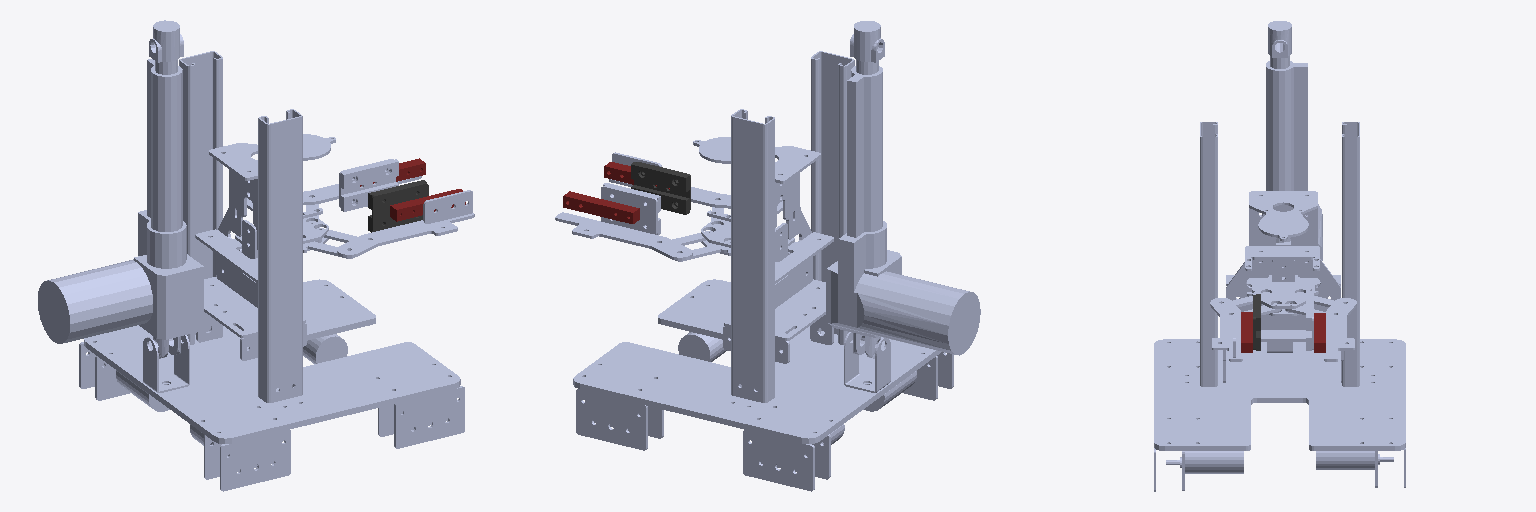
URDF robot description (swole_7):
<?xml version="1.0" encoding="utf-8"?>
<!-- This URDF was automatically created by SolidWorks to URDF Exporter! Originally created by [author] ([email redacted]) 
     Commit Version: 1.6.0-4-g7f85cfe  Build Version: 1.6.7995.38578
     For more information, please see http://wiki.ros.org/sw_urdf_exporter -->
<robot
  name="swole_7">
  <link
    name="base_link">
    <inertial>
      <origin
        xyz="-0.0148176230048584 0.00401001080732938 0.0686503041268495"
        rpy="0 0 0" />
     <mass
        value="0.43823834058655" />
      <inertia
        ixx="0.00314976311839575"
        ixy="-9.54850998275818E-19"
        ixz="-8.87078769442381E-22"
        iyy="0.00277373372724309"
        iyz="-5.06082384233403E-22"
        izz="0.00592055170139079" />
    </inertial>
    <visual>
      <origin
        xyz="0 0 0"
        rpy="0 0 0" />
      <geometry>
        <mesh
          filename="package://swole_7/meshes/base_link.STL" />
      </geometry>
      <material
        name="">
        <color
          rgba="0.792156862745098 0.819607843137255 0.933333333333333 1" />
      </material>
    </visual>
    <collision>
      <origin
        xyz="0 0 0"
        rpy="0 0 0" />
      <geometry>
        <mesh
          filename="package://swole_7/meshes/base_link.STL" />
      </geometry>
    </collision>
  </link>
  <link
    name="front_right_wheel">
    <inertial>
      <origin
        xyz="1.4481E-11 3.6689E-05 5.3453E-11"
        rpy="0 0 0" />
      <mass
        value="0.4" />
      <inertia
        ixx="5.541E-05"
        ixy="-4.7628E-15"
        ixz="-4.7607E-14"
        iyy="6.7546E-05"
        iyz="-3.3652E-14"
        izz="5.541E-05" />
    </inertial>
    <visual>
      <origin
        xyz="0 0 0"
        rpy="0 0 0" />
      <geometry>
        <mesh
          filename="package://swole_7/meshes/omni_wheel_1.dae" scale="0.4 0.4 0.4"/>
      </geometry>
      <material
        name="">
        <color
          rgba="0.79216 0.81961 0.93333 1" />
      </material>
    </visual>
    <collision>
      <origin
        xyz="0 0 0"
        rpy="1.57 0 0" />
        <geometry>
					<cylinder length="0.05" radius="0.05" />
        </geometry>
    </collision>
  </link>
  <joint
    name="front_right_wheel_joint"
    type="continuous">
    <origin
      xyz="0.10879 -0.20416 -0.035575"
      rpy="0 0 0" />
    <parent
      link="base_link" />
    <child
      link="front_right_wheel" />
    <axis
      xyz="0 0 0" />
  </joint>
  <link
    name="front_left_wheel">
    <inertial>
      <origin
        xyz="1.7206E-11 -6.0979E-12 4.367E-11"
        rpy="0 0 0" />
      <mass
        value="0.4" />
      <inertia
        ixx="5.541E-05"
        ixy="-1.8289E-14"
        ixz="1.6534E-13"
        iyy="6.7546E-05"
        iyz="4.9936E-14"
        izz="5.541E-05" />
    </inertial>
    <visual>
      <origin
        xyz="0 0 0"
        rpy="0 0 0" />
      <geometry>
        <mesh
          filename="package://swole_7/meshes/omni_wheel_2.dae" scale="0.4 0.4 0.4"/>
      </geometry>
      <material
        name="">
        <color
          rgba="0.79216 0.81961 0.93333 1" />
      </material>
    </visual>
    <collision>
      <origin
        xyz="0 0 0"
        rpy="1.57 0 0" />
      <geometry>
        <geometry>
					<cylinder length="0.05" radius="0.05" />
        </geometry>
      </geometry>
    </collision>
  </link>
  <joint
    name="front_left_wheel_joint"
    type="continuous">
    <origin
      xyz="0.099888 0.20438 -0.035575"
      rpy="0 0 0" />
    <parent
      link="base_link" />
    <child
      link="front_left_wheel" />
    <axis
      xyz="0 1 0" />
    <limit effort="100" velocity="100"/>
    <joint_properties damping="0.0" friction="0.0"/>
  </joint>
  <link
    name="rear_left_wheel">
    <inertial>
      <origin
        xyz="-1.8869E-11 -7.9625E-12 -1.3747E-12"
        rpy="0 0 0" />
      <mass
        value="0.4" />
      <inertia
        ixx="5.541E-05"
        ixy="1.182E-14"
        ixz="-1.164E-13"
        iyy="6.7546E-05"
        iyz="2.6018E-14"
        izz="5.541E-05" />
    </inertial>
    <visual>
      <origin
        xyz="0 0 0"
        rpy="0 0 0" />
      <geometry>
        <mesh
          filename="package://swole_7/meshes/omni_wheel_2.dae" scale="0.4 0.4 0.4"/>
      </geometry>
      <material
        name="">
        <color
          rgba="0.79216 0.81961 0.93333 1" />
      </material>
    </visual>
    <collision>
      <origin
        xyz="0 0 0"
        rpy="1.57 0 0" />
        <geometry>
					<cylinder length="0.05" radius="0.05" />
        </geometry>
    </collision>
  </link>
  <joint
    name="rear_left_wheel_joint"
    type="continuous">
    <origin
      xyz="-0.091212 0.20438 -0.035575"
      rpy="0 0 0" />
    <parent
      link="base_link" />
    <child
      link="rear_left_wheel" />
    <axis
      xyz="0 1 0" />
  </joint>
  <link
    name="rear_right_wheel">
    <inertial>
      <origin
        xyz="-1.4481E-11 3.6689E-05 -5.3453E-11"
        rpy="0 0 0" />
      <mass
        value="0.4" />
      <inertia
        ixx="5.541E-05"
        ixy="4.7618E-15"
        ixz="-4.7607E-14"
        iyy="6.7546E-05"
        iyz="3.3654E-14"
        izz="5.541E-05" />
    </inertial>
    <visual>
      <origin
        xyz="0 0 0"
        rpy="0 0 0" />
      <geometry>
        <mesh
          filename="package://swole_7/meshes/omni_wheel_1.dae" scale="0.4 0.4 0.4"/>
      </geometry>
      <material
        name="">
        <color
          rgba="0.79216 0.81961 0.93333 1" />
      </material>
    </visual>
    <collision>
      <origin
        xyz="0 0 0"
        rpy="1.57 0 0" />
        <geometry>
					<cylinder length="0.05" radius="0.05" />
        </geometry>
    </collision>
  </link>
  <joint
    name="rear_right_wheel_joint"
    type="continuous">
    <origin
      xyz="-0.090543 -0.20416 -0.035575"
      rpy="0 0 0" />
    <parent
      link="base_link" />
    <child
      link="rear_right_wheel" />
    <axis
      xyz="0 1 0" />
  </joint>
  <link
    name="gripper_lifter">
    <inertial>
      <origin
        xyz="-0.0249741085115004 0.00401001080732938 0.0686503041268495"
        rpy="0 0 0" />
      <mass
        value="0.0172" />
      <inertia
        ixx="0.00021296"
        ixy="-1.3863E-08"
        ixz="-1.1287E-14"
        iyy="0.00017198"
        iyz="-1.0274E-15"
        izz="0.00020319" />
    </inertial>
    <visual>
      <origin
        xyz="0 0 0"
        rpy="0 0 0" />
      <geometry>
        <mesh
          filename="package://swole_7/meshes/gripper_lifter.STL" />
      </geometry>
      <material
        name="">
        <color
          rgba="0.79216 0.81961 0.93333 1" />
      </material>
    </visual>
    <collision>
      <origin
        xyz="0 0 0"
        rpy="0 0 0" />
      <geometry>
        <mesh
          filename="package://swole_7/meshes/gripper_lifter.STL" />
      </geometry>
    </collision>
  </link>
  <joint
    name="gripper_lifter_joint"
    type="prismatic">
    <origin
      xyz="-0.0249741085115004 0.00401001080732938 0.0686503041268495"
      rpy="0 0 0" />
    <parent
      link="base_link" />
    <child
      link="gripper_lifter" />
    <axis
      xyz="0 0 1" />
    <limit
      lower="0"
      upper="0"
      effort="0"
      velocity="0" />
  </joint>
  <link
    name="lidar_plate">
    <inertial>
      <origin
        xyz="0 -2.7756E-17 -5.5511E-17"
        rpy="0 0 0" />
      <mass
        value="0.00000019609" />
      <inertia
        ixx="6.9293E-06"
        ixy="-1.434E-21"
        ixz="-7.3447E-22"
        iyy="2.3202E-05"
        iyz="3.4914E-23"
        izz="3.0098E-05" />
    </inertial>
    <visual>
      <origin
        xyz="0 0 0"
        rpy="0 0 0" />
      <geometry>
        <mesh
          filename="package://swole_7/meshes/lidar_plate.STL" />
      </geometry>
      <material
        name="">
        <color
          rgba="0.79216 0.81961 0.93333 1" />
      </material>
    </visual>
    <collision>
      <origin
        xyz="0 0 0"
        rpy="0 0 0" />
      <geometry>
        <mesh
          filename="package://swole_7/meshes/lidar_plate.STL" />
      </geometry>
    </collision>
  </link>
  <joint
    name="lidar_plate_joint"
    type="fixed">
    <origin
      xyz="0.035612 0 0.15559"
      rpy="0 0 0" />
    <parent
      link="gripper_lifter" />
    <child
      link="lidar_plate" />
    <axis
      xyz="0 0 1" />
  </joint>
  <link
    name="finger_right">
    <inertial>
      <origin
        xyz="-5.5511E-17 1.3878E-17 5.5511E-17"
        rpy="0 0 0" />
      <mass
        value="0.0041334" />
      <inertia
        ixx="2.2294E-07"
        ixy="-1.2445E-24"
        ixz="1.0627E-22"
        iyy="1.2703E-06"
        iyz="-2.8075E-24"
        izz="1.0543E-06" />
    </inertial>
    <visual>
      <origin
        xyz="0 0 0"
        rpy="0 0 0" />
      <geometry>
        <mesh
          filename="package://swole_7/meshes/finger_right.STL" />
      </geometry>
      <material
        name="">
        <color
          rgba="0.79216 0.81961 0.93333 1" />
      </material>
    </visual>
    <collision>
      <origin
        xyz="0 0 0"
        rpy="0 0 0" />
      <geometry>
        <mesh
          filename="package://swole_7/meshes/finger_right.STL" />
      </geometry>
    </collision>
  </link>
  <joint
    name="finger_right_joint"
    type="prismatic">
    <origin
      xyz="0.2055 -0.054841 0.080876"
      rpy="0 0 0" />
    <parent
      link="gripper_lifter" />
    <child
      link="finger_right" />
    <axis
      xyz="0 0 1" />
    <limit
      lower="0"
      upper="0"
      effort="0"
      velocity="0" />
  </joint>
  <link
    name="load_cell_right">
    <inertial>
      <origin
        xyz="0 -2.7756E-17 -2.7756E-17"
        rpy="0 0 0" />
      <mass
        value="0.012334" />
      <inertia
        ixx="3.3867E-07"
        ixy="-4.5654E-20"
        ixz="-1.326E-21"
        iyy="6.5905E-06"
        iyz="3.1041E-23"
        izz="6.5834E-06" />
    </inertial>
    <visual>
      <origin
        xyz="0 0 0"
        rpy="0 0 0" />
      <geometry>
        <mesh
          filename="package://swole_7/meshes/load_cell_right.STL" />
      </geometry>
      <material
        name="">
        <color
          rgba="0.54902 0.18039 0.18039 1" />
      </material>
    </visual>
    <collision>
      <origin
        xyz="0 0 0"
        rpy="0 0 0" />
      <geometry>
        <mesh
          filename="package://swole_7/meshes/load_cell_right.STL" />
      </geometry>
    </collision>
  </link>
  <joint
    name="load_cell_right_joint"
    type="fixed">
    <origin
      xyz="-0.01482 0.014288 0"
      rpy="0 0 0" />
    <parent
      link="finger_right" />
    <child
      link="load_cell_right" />
    <axis
      xyz="0 0 1" />
  </joint>
  <link
    name="contact_right">
    <inertial>
      <origin
        xyz="-1.1102E-16 0.0028274 -2.7756E-17"
        rpy="0 0 0" />
      <mass
        value="0.019736" />
      <inertia
        ixx="1.407E-06"
        ixy="-4.8601E-20"
        ixz="2.4258E-22"
        iyy="7.9682E-06"
        iyz="-8.9801E-24"
        izz="6.6549E-06" />
    </inertial>
    <visual>
      <origin
        xyz="0 0 0"
        rpy="0 0 0" />
      <geometry>
        <mesh
          filename="package://swole_7/meshes/contact_right.STL" />
      </geometry>
      <material
        name="">
        <color
          rgba="0.29804 0.29804 0.29804 1" />
      </material>
    </visual>
    <collision>
      <origin
        xyz="0 0 0"
        rpy="0 0 0" />
      <geometry>
        <mesh
          filename="package://swole_7/meshes/contact_right.STL" />
      </geometry>
    </collision>
  </link>
  <joint
    name="contact_right_joint"
    type="fixed">
    <origin
      xyz="-0.04202 0.022225 0"
      rpy="0 0 0" />
    <parent
      link="finger_right" />
    <child
      link="contact_right" />
    <axis
      xyz="0 0 1" />
  </joint>
  <link
    name="finger_left">
    <inertial>
      <origin
        xyz="0 -2.7756E-17 2.7756E-17"
        rpy="0 0 0" />
      <mass
        value="0.0041334" />
      <inertia
        ixx="2.2294E-07"
        ixy="-1.0833E-24"
        ixz="8.7052E-23"
        iyy="1.2703E-06"
        iyz="-1.5725E-24"
        izz="1.0543E-06" />
    </inertial>
    <visual>
      <origin
        xyz="0 0 0"
        rpy="0 0 0" />
      <geometry>
        <mesh
          filename="package://swole_7/meshes/finger_left.STL" />
      </geometry>
      <material
        name="">
        <color
          rgba="0.79216 0.81961 0.93333 1" />
      </material>
    </visual>
    <collision>
      <origin
        xyz="0 0 0"
        rpy="0 0 0" />
      <geometry>
        <mesh
          filename="package://swole_7/meshes/finger_left.STL" />
      </geometry>
    </collision>
  </link>
  <joint
    name="finger_left_joint"
    type="prismatic">
    <origin
      xyz="0.20577 0.054684 0.080876"
      rpy="0 0 0" />
    <parent
      link="gripper_lifter" />
    <child
      link="finger_left" />
    <axis
      xyz="0 0 1" />
    <limit
      lower="0"
      upper="0"
      effort="0"
      velocity="0" />
  </joint>
  <link
    name="load_cell_left">
    <inertial>
      <origin
        xyz="0 -2.7756E-17 0"
        rpy="0 0 0" />
      <mass
        value="0.012334" />
      <inertia
        ixx="3.3867E-07"
        ixy="-9.5607E-22"
        ixz="-1.1726E-21"
        iyy="6.5905E-06"
        iyz="-6.4043E-24"
        izz="6.5834E-06" />
    </inertial>
    <visual>
      <origin
        xyz="0 0 0"
        rpy="0 0 0" />
      <geometry>
        <mesh
          filename="package://swole_7/meshes/load_cell_left.STL" />
      </geometry>
      <material
        name="">
        <color
          rgba="0.54902 0.18039 0.18039 1" />
      </material>
    </visual>
    <collision>
      <origin
        xyz="0 0 0"
        rpy="0 0 0" />
      <geometry>
        <mesh
          filename="package://swole_7/meshes/load_cell_left.STL" />
      </geometry>
    </collision>
  </link>
  <joint
    name="load_cell_left_joint"
    type="prismatic">
    <origin
      xyz="-0.01482 -0.014288 0"
      rpy="0 0 0" />
    <parent
      link="finger_left" />
    <child
      link="load_cell_left" />
    <axis
      xyz="0 0 1" />
    <limit
      lower="0"
      upper="0"
      effort="0"
      velocity="0" />
  </joint>
  <link
    name="contact_left">
    <inertial>
      <origin
        xyz="5.5511E-17 -0.0028274 2.7756E-17"
        rpy="0 0 0" />
      <mass
        value="0.019736" />
      <inertia
        ixx="1.407E-06"
        ixy="-2.1715E-21"
        ixz="-2.6305E-21"
        iyy="7.9682E-06"
        iyz="-1.8064E-23"
        izz="6.6549E-06" />
    </inertial>
    <visual>
      <origin
        xyz="0 0 0"
        rpy="0 0 0" />
      <geometry>
        <mesh
          filename="package://swole_7/meshes/contact_left.STL" />
      </geometry>
      <material
        name="">
        <color
          rgba="0.79216 0.81961 0.93333 1" />
      </material>
    </visual>
    <collision>
      <origin
        xyz="0 0 0"
        rpy="0 0 0" />
      <geometry>
        <mesh
          filename="package://swole_7/meshes/contact_left.STL" />
      </geometry>
    </collision>
  </link>
  <joint
    name="contact_left_joint"
    type="prismatic">
    <origin
      xyz="-0.04202 -0.022225 0"
      rpy="0 0 0" />
    <parent
      link="finger_left" />
    <child
      link="contact_left" />
    <axis
      xyz="0 0 1" />
    <limit
      lower="0"
      upper="0"
      effort="0"
      velocity="0" />
  </joint>
</robot>

--- Render facts (derived) ---
The picture shows the robot from 3 angles, left to right: view 1: azimuth 30°, elevation 25°; view 2: azimuth 150°, elevation 25°; view 3: azimuth 270°, elevation 25°; orthographic projection.
Model swole_7 with 13 links and 12 joints (4 continuous, 5 prismatic, 3 fixed), rooted at base_link, posed every joint at zero.
Visible links, largest first — view 1: base_link, gripper_lifter, contact_left, lidar_plate, contact_right, finger_right, load_cell_right; view 2: base_link, gripper_lifter, contact_right, lidar_plate, contact_left, load_cell_left; view 3: base_link, gripper_lifter, lidar_plate.
Boxes of the visible links, x1,y1,x2,y2 form: base_link: [38, 20, 464, 491]; gripper_lifter: [195, 169, 474, 360]; contact_left: [339, 159, 398, 211]; lidar_plate: [209, 134, 335, 180]; contact_right: [368, 180, 428, 232]; finger_right: [423, 190, 472, 223]; load_cell_right: [390, 189, 465, 221]; base_link: [573, 21, 980, 491]; gripper_lifter: [555, 173, 833, 390]; contact_right: [631, 162, 690, 214]; lidar_plate: [693, 137, 820, 183]; contact_left: [601, 183, 660, 234]; load_cell_left: [563, 191, 639, 223]; base_link: [1154, 21, 1405, 491]; gripper_lifter: [1210, 205, 1356, 382]; lidar_plate: [1249, 191, 1317, 241].
Bounding box of the posed robot: 0.441 × 0.28 × 0.4484 m (x, y, z).
8 mesh visuals loaded from 11 distinct referenced files (8 binary STL); not drawn: 5 (reference not matched to a file when rendering).
